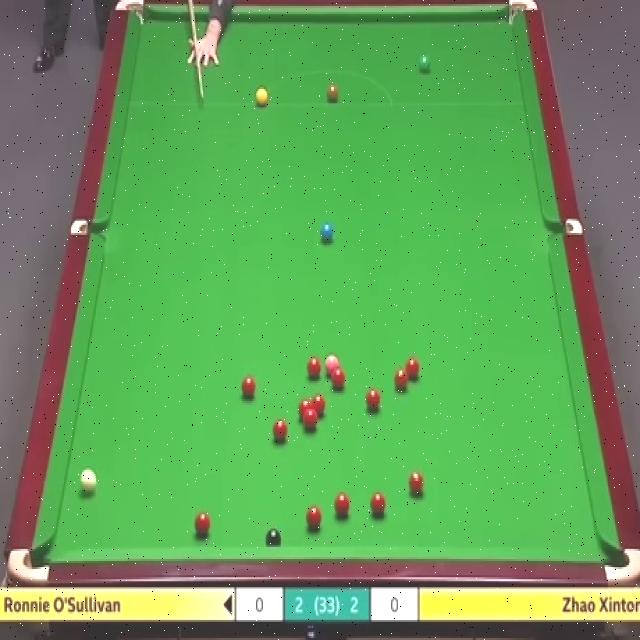black-ball: (267, 528, 285, 546)
blue-ball: (320, 224, 334, 241)
brown-ball: (327, 85, 340, 107)
green-ball: (420, 55, 430, 70)
pink-ball: (325, 354, 339, 374)
red-ball: (334, 490, 350, 518), (193, 512, 211, 536), (311, 394, 327, 420), (306, 506, 322, 531), (371, 493, 387, 516), (275, 419, 291, 442), (409, 471, 425, 494), (405, 355, 420, 379), (240, 378, 256, 399), (304, 410, 318, 431), (306, 357, 320, 377), (365, 391, 381, 408), (298, 400, 312, 419), (331, 368, 344, 388)
white-ball: (79, 471, 98, 497)
yellow-ball: (256, 87, 268, 108)
